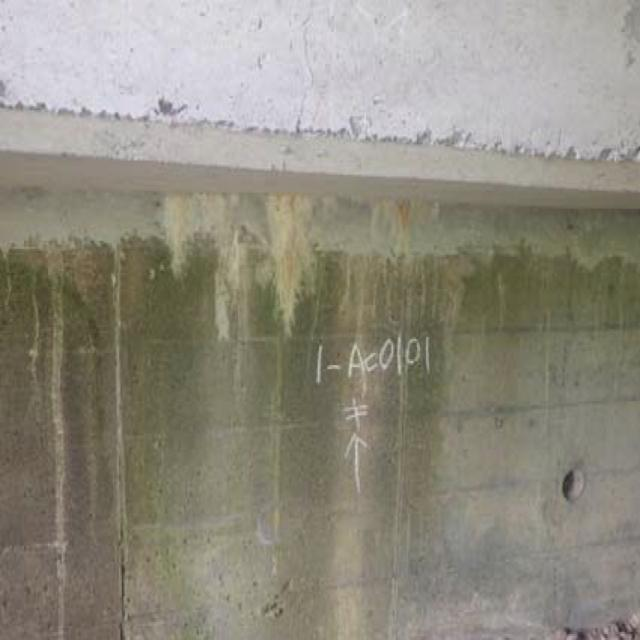freelime: (150, 182, 350, 322)
